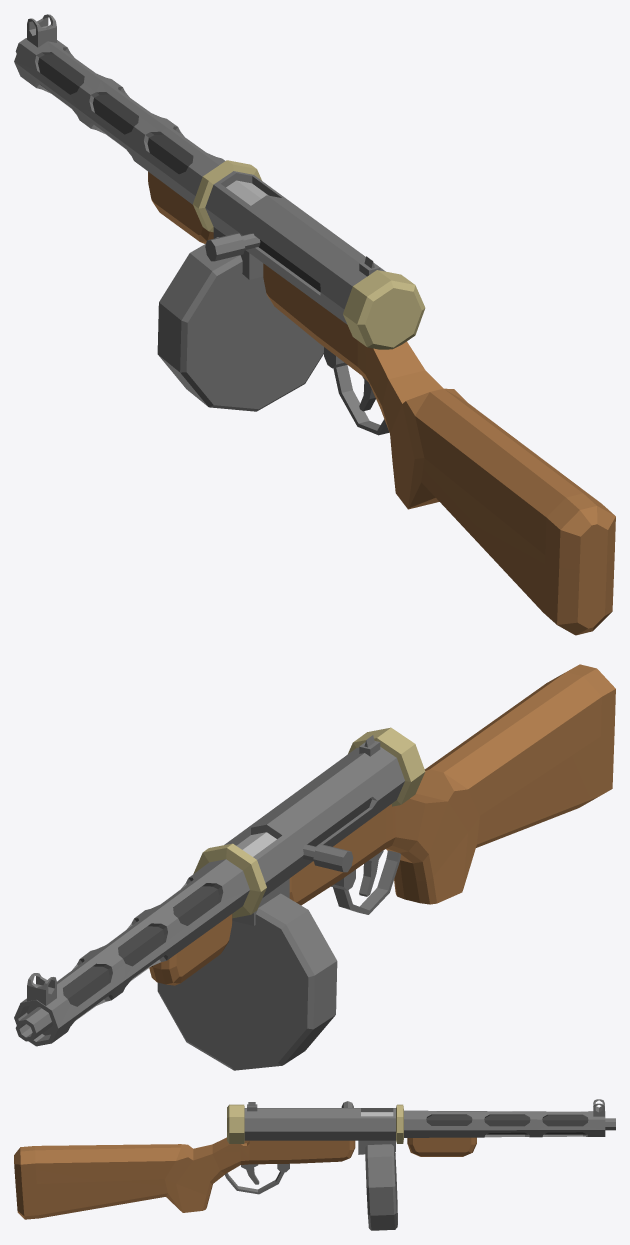
File: PPSH-Drum.fbx
The picture shows the model from 3 angles, top to bottom: view 1: azimuth 30°, elevation 25°; view 2: azimuth 150°, elevation 25°; view 3: azimuth 270°, elevation 25°; orthographic projection. The views are drawn at different scales.
Parts seen in each view (by area): view 1: PPSH40; view 2: PPSH40; view 3: PPSH40.
Boxes of the visible parts, box(x1,y1,x2,y2) form: PPSH40: box(14, 14, 615, 635); PPSH40: box(14, 664, 615, 1070); PPSH40: box(14, 1099, 615, 1230).
Bounding box in the file's own units: 158 × 229 × 999.
